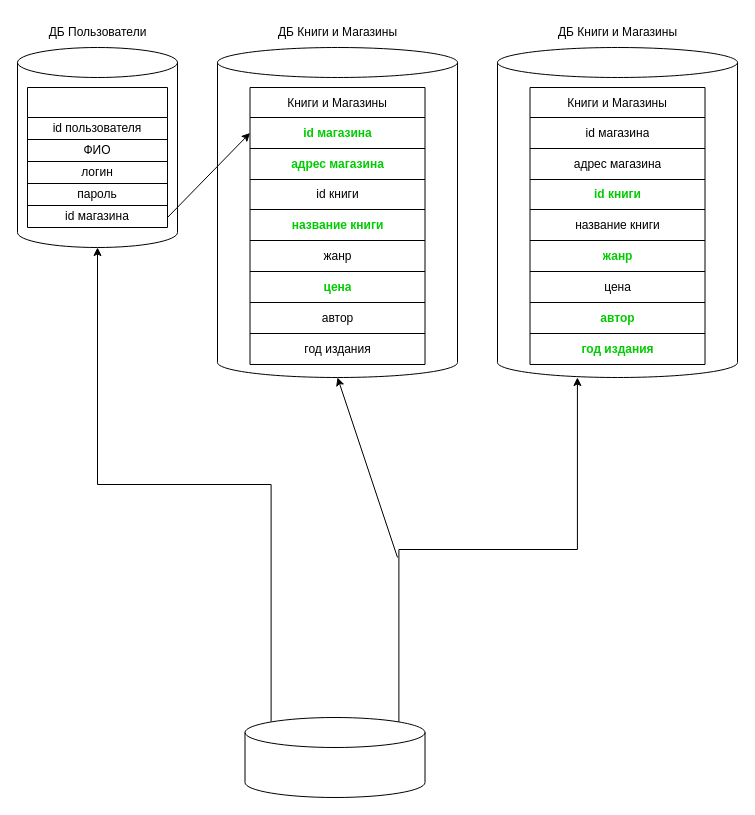
The diagram is 755 pixels wide and 815 high, and some of its shapes have lost their labels. The shapes that lost their labels are listed below. From the top down, each one's box as (x1, y1, x2, y2) in pixels, then its label:
(26, 86, 168, 228): Пользователи
(244, 716, 425, 798): Кластер нашей ДБ
